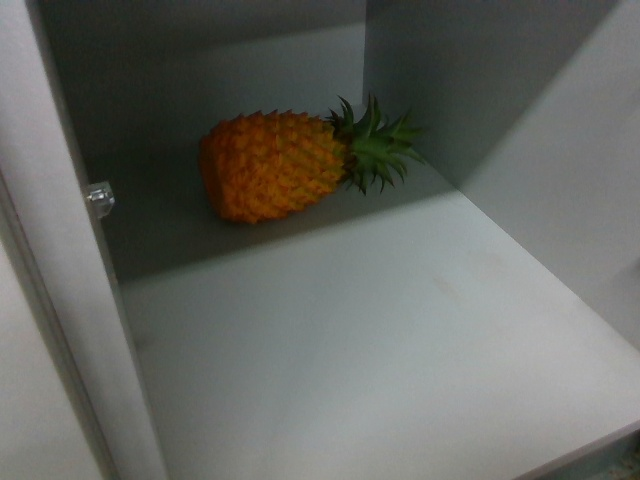pineapple: (196, 94, 419, 219)
